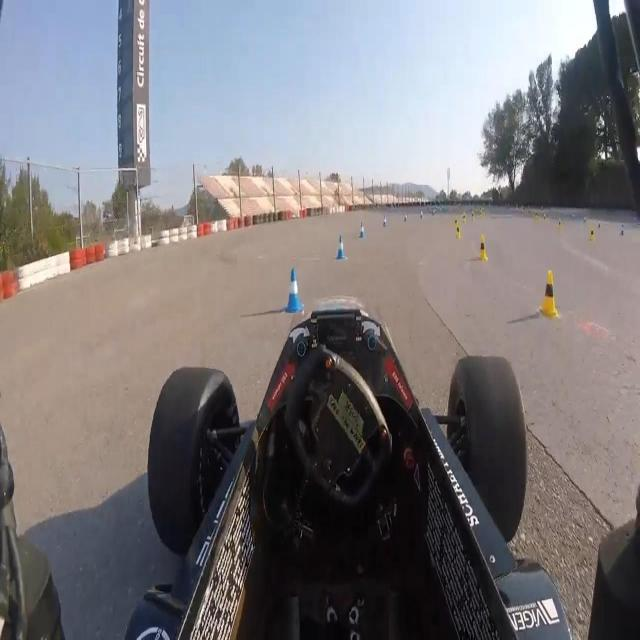blue_cone: (284, 268, 304, 313), (337, 235, 347, 259), (358, 221, 366, 240)
yellow_cone: (540, 268, 559, 318), (478, 234, 488, 262), (454, 222, 462, 240)
